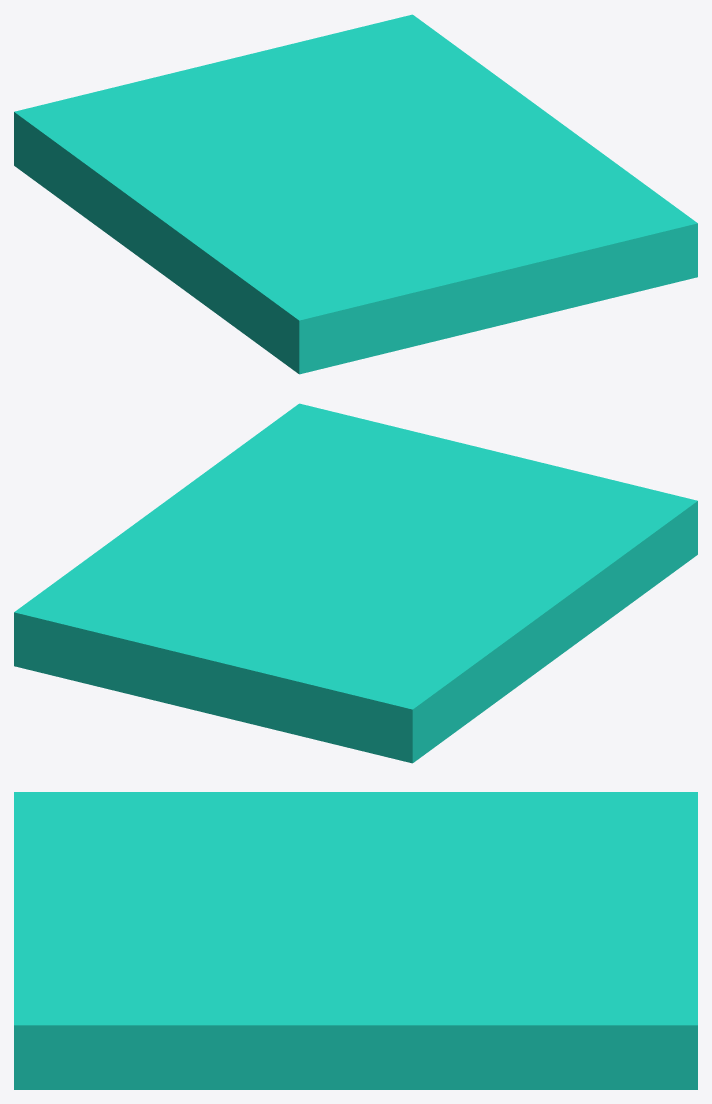
File: BisteccaIntSost.fbx
3 views of the same model, one above another, from view 1: azimuth 30°, elevation 25°; view 2: azimuth 150°, elevation 25°; view 3: azimuth 270°, elevation 25° (orthographic). The views are drawn at different scales.
Parts seen in each view (by area): view 1: Bistecca.002; view 2: Bistecca.002; view 3: Bistecca.002.
Part boxes in pixels (x1,y1,x2,y2): Bistecca.002: (14, 14, 697, 374); Bistecca.002: (14, 403, 697, 763); Bistecca.002: (14, 792, 697, 1089).
Bounding box in the file's own units: 725 × 93.62 × 898.
